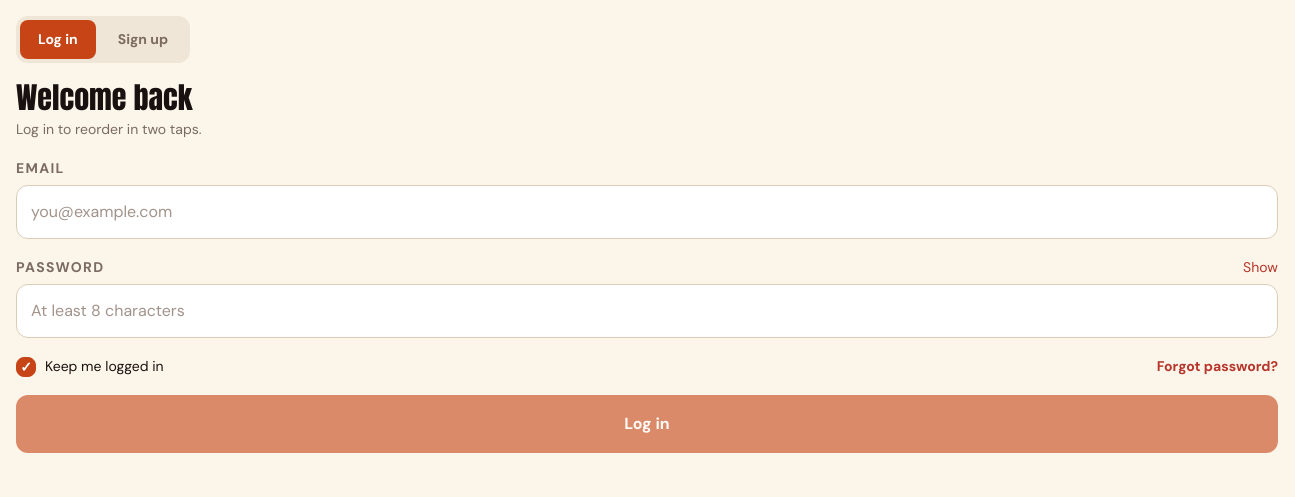
Test: real-time validation › clears the error once the value becomes valid
Type "liza@" into the field labelled "Email" at (647, 212), box [16, 185, 1278, 239]
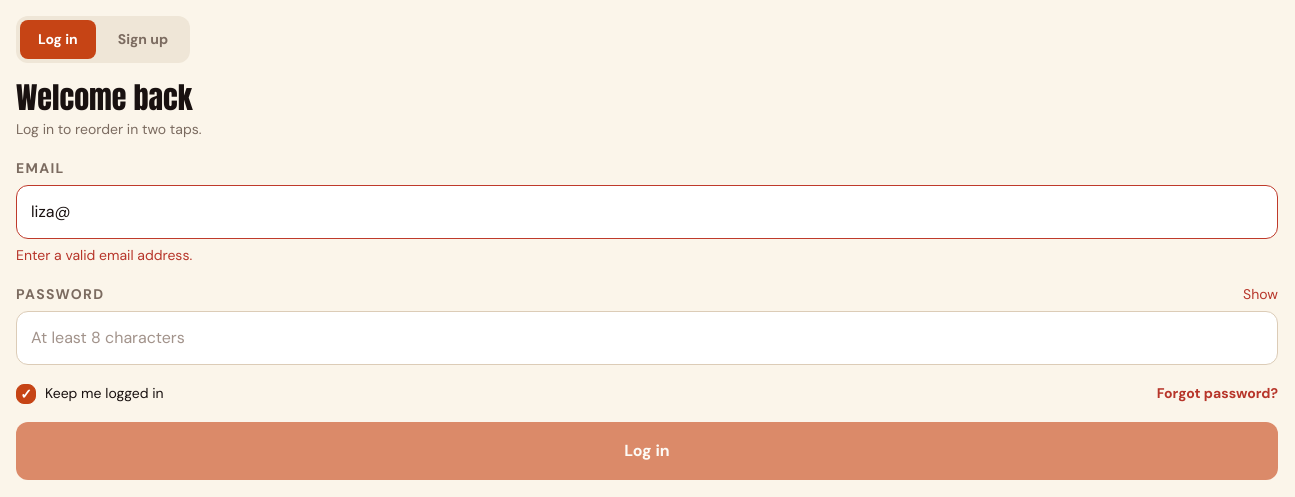
Replace the text in the field labelled "Email" with "liza@example.com" at (647, 212), box [16, 185, 1278, 239]
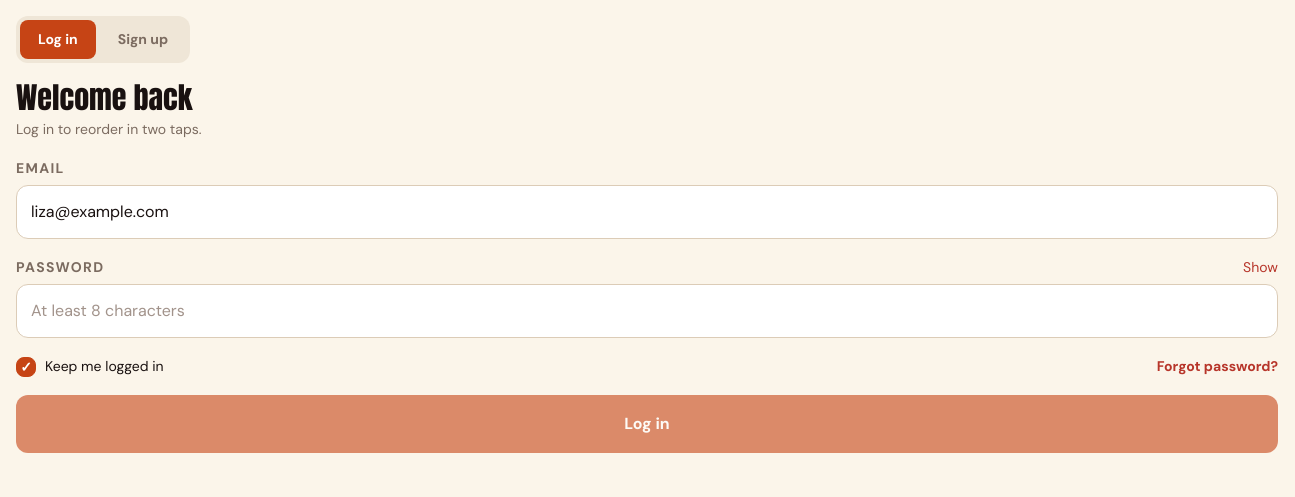
Expected: the text "Enter a valid email address." is gone
